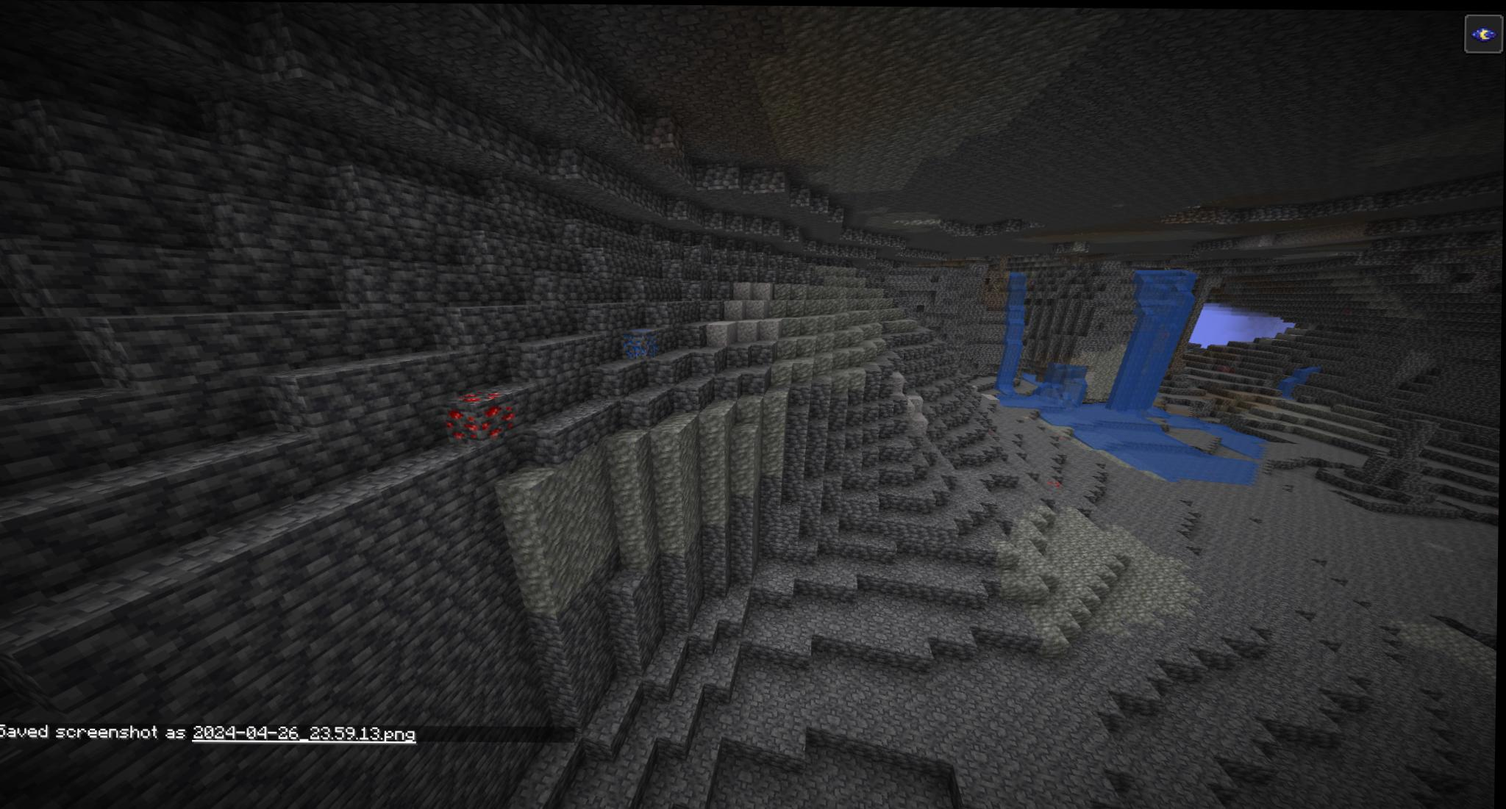redstone ore: (443, 388, 515, 442)
